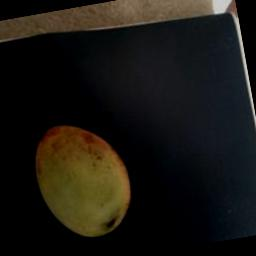Mango Unripe: (12, 98, 144, 253)
